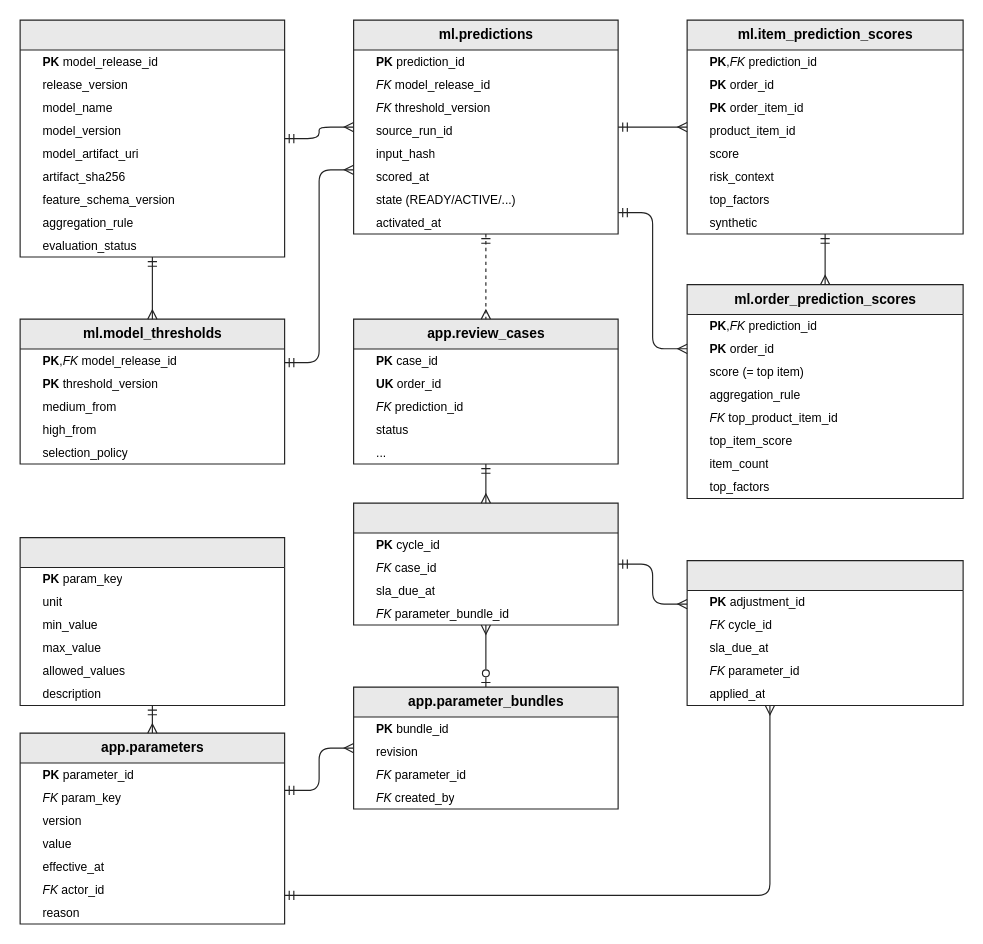
Some shapes in this 983 by 944 pixel diagram are drawn without their labels. Here are the shapes that lost their labels. From the top down, the box of each, then its label:
(19, 19, 285, 257): ml.model_releases
(352, 502, 618, 625): app.review_cycles
(19, 536, 285, 706): app.parameter_definitions
(686, 559, 963, 706): app.sla_adjustments
